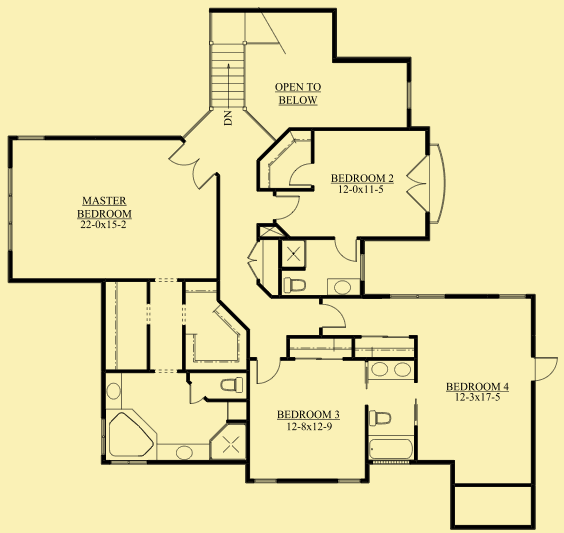door: (165, 141, 217, 191), (403, 154, 432, 212), (271, 191, 304, 224), (255, 356, 286, 387), (317, 301, 350, 330), (328, 234, 360, 263), (284, 161, 315, 189), (532, 354, 560, 385)
large_sink: (103, 368, 128, 412), (215, 371, 247, 396), (283, 273, 311, 299), (365, 407, 396, 430)
small_sink: (361, 357, 418, 381), (155, 440, 213, 462), (323, 273, 365, 302), (100, 369, 126, 411)
stairs: (203, 40, 249, 111)
tub: (98, 407, 158, 466), (365, 432, 416, 461)
window: (4, 165, 19, 257), (387, 291, 449, 300), (11, 131, 45, 143), (494, 292, 528, 301), (404, 79, 413, 111)
